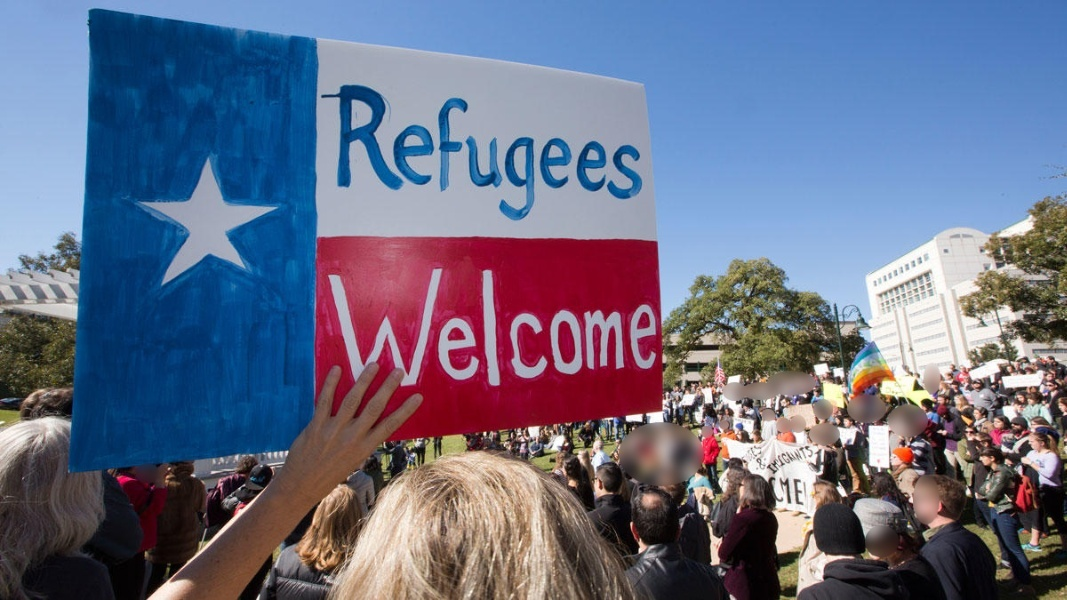text: (337, 80, 352, 223), (353, 80, 368, 223), (369, 80, 384, 223), (385, 80, 400, 223), (401, 80, 416, 223), (417, 80, 432, 223), (433, 80, 448, 223), (449, 80, 464, 223), (465, 80, 480, 223), (481, 80, 496, 223), (497, 80, 512, 223), (513, 80, 528, 223), (529, 80, 544, 223), (545, 80, 560, 223), (561, 80, 576, 223), (577, 80, 592, 223), (593, 80, 608, 223), (609, 80, 624, 223), (625, 80, 640, 223), (337, 265, 352, 400), (353, 265, 368, 400), (369, 265, 384, 400), (385, 265, 400, 400), (401, 265, 416, 400), (417, 265, 432, 400), (433, 265, 448, 400), (449, 265, 464, 400), (465, 265, 480, 400), (481, 265, 496, 400), (497, 265, 512, 400), (513, 265, 528, 400), (529, 265, 544, 400), (545, 265, 560, 400), (561, 265, 576, 400), (577, 265, 592, 400), (593, 265, 608, 400), (609, 265, 624, 400), (625, 265, 640, 400), (641, 265, 656, 400), (325, 265, 336, 400), (641, 80, 649, 223), (657, 265, 661, 400), (769, 440, 784, 475), (785, 440, 800, 475), (801, 440, 815, 475), (769, 475, 784, 507), (785, 475, 800, 507), (753, 442, 767, 469), (739, 442, 752, 469), (755, 456, 768, 472), (763, 440, 768, 475), (801, 475, 805, 507), (765, 475, 768, 507)
